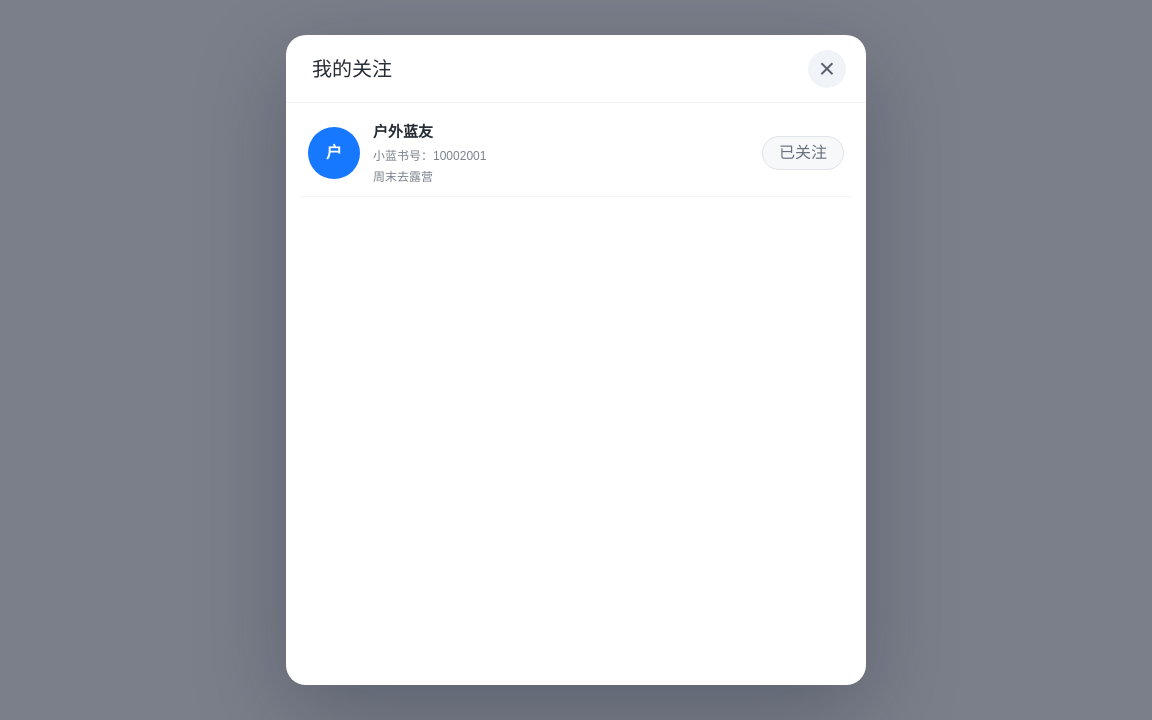
it: FollowingDialog › loads private following rows and confirms an authoritative unfollow
expect the heading "我的关注" is shown: met, box 312,54 -> 392,84
expect the text "户外蓝友" is shown: met, box 373,123 -> 433,140
Click the button "已关注".
click(803, 153)  # box 762,136 -> 844,170
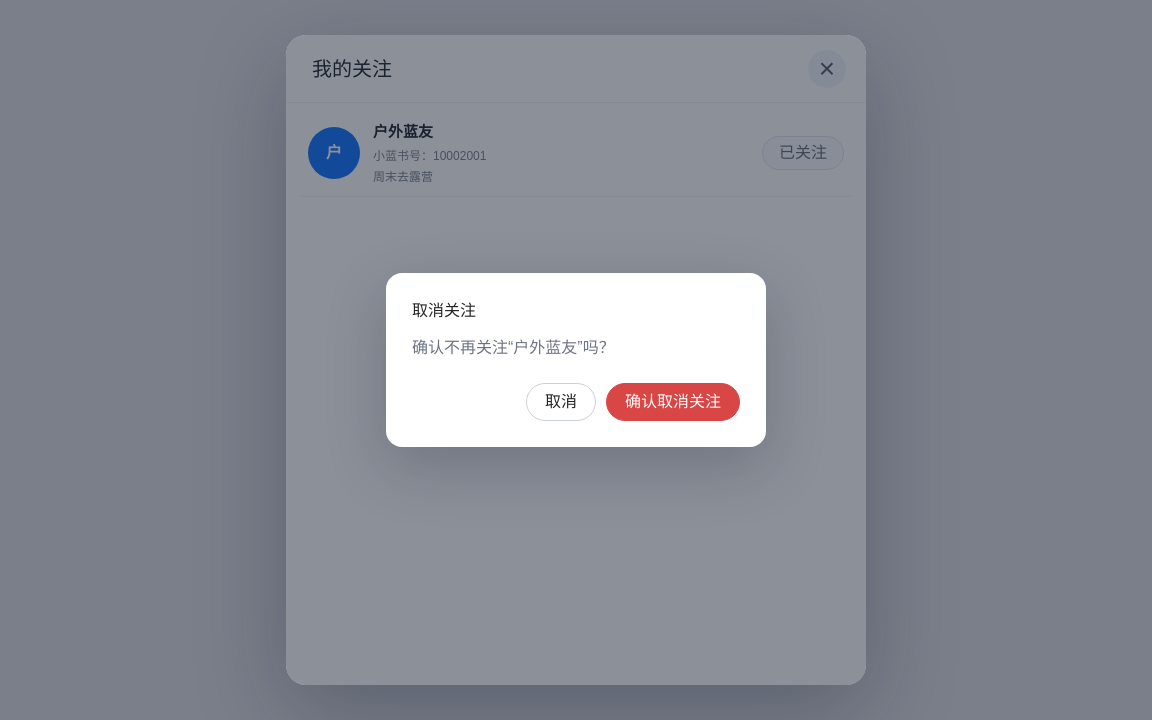
expect the dialog "取消关注" is shown: met, box 286,35 -> 866,685
Click the button "取消".
click(561, 402)  # box 526,383 -> 596,421
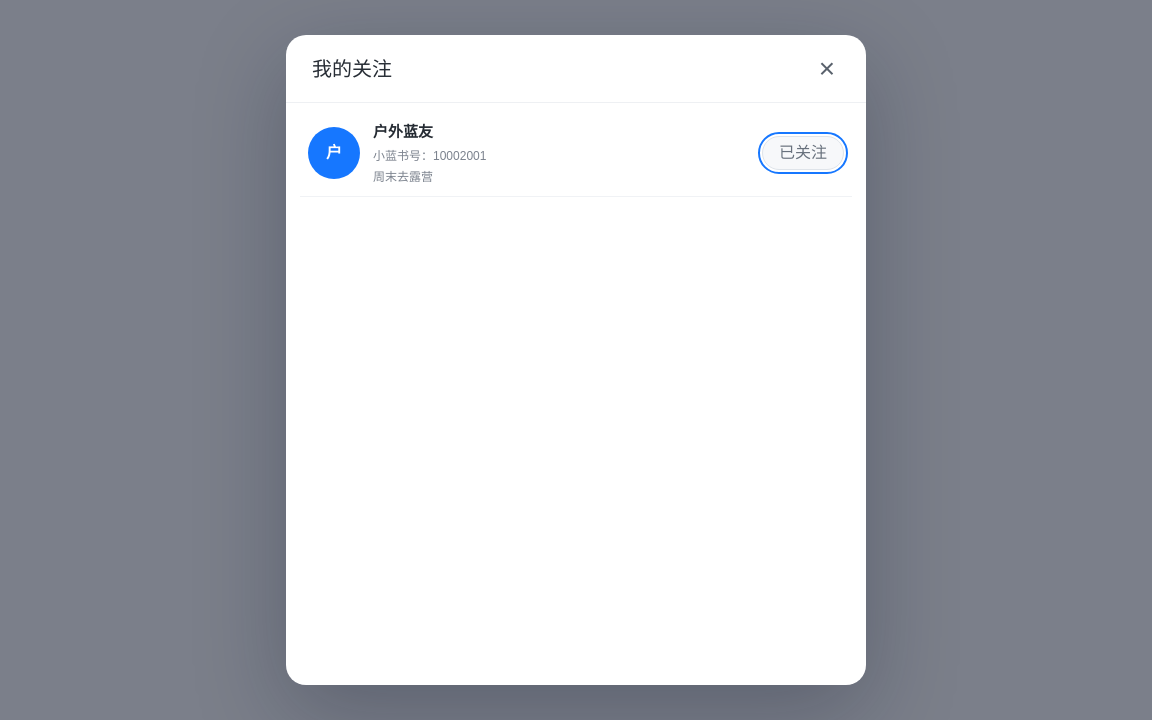
Click the button "已关注".
click(803, 153)  # box 762,136 -> 844,170
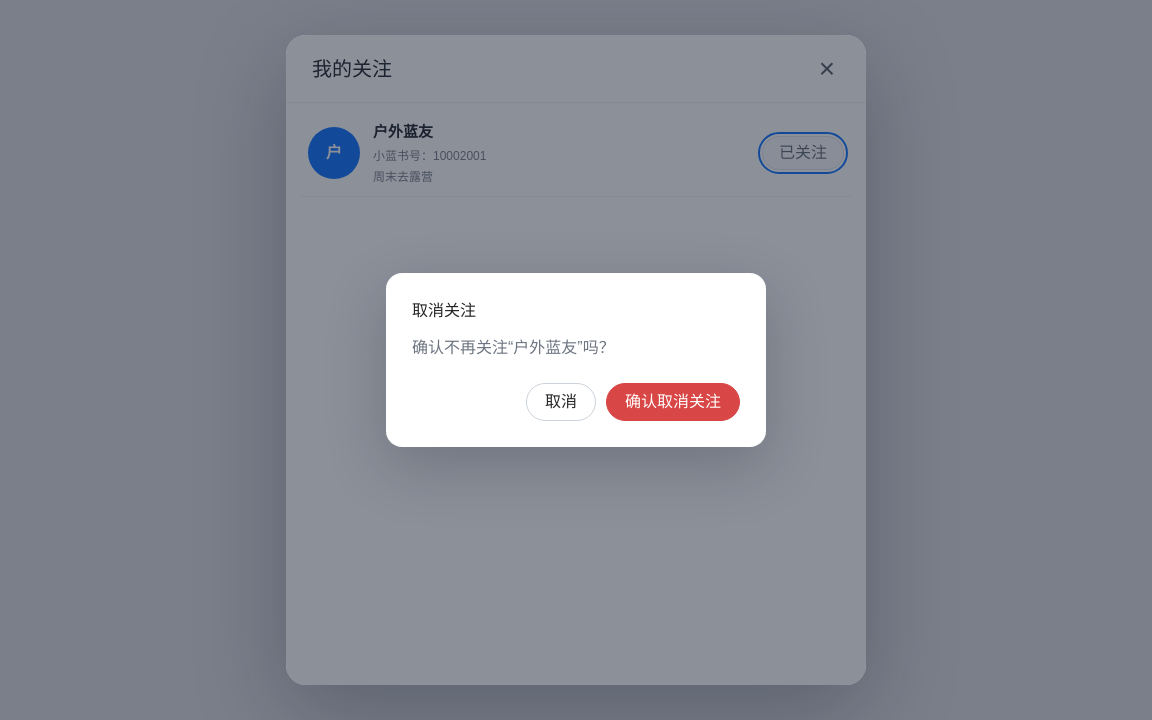
Click the button "确认取消关注".
click(673, 402)  # box 606,383 -> 740,421
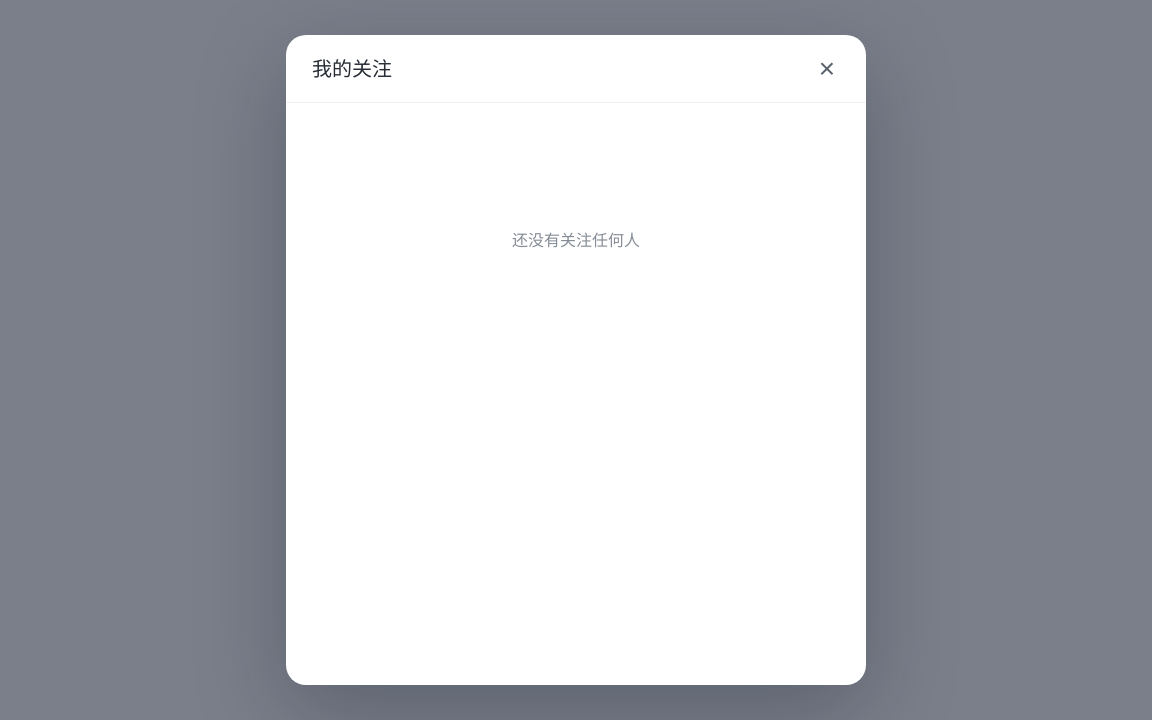
expect the button "户外蓝友" is gone: met
